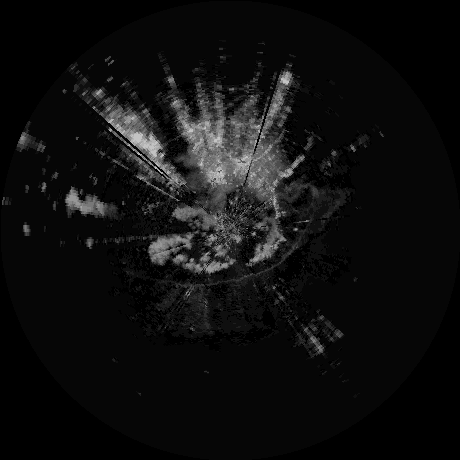frontgust: (167, 231, 305, 288)
